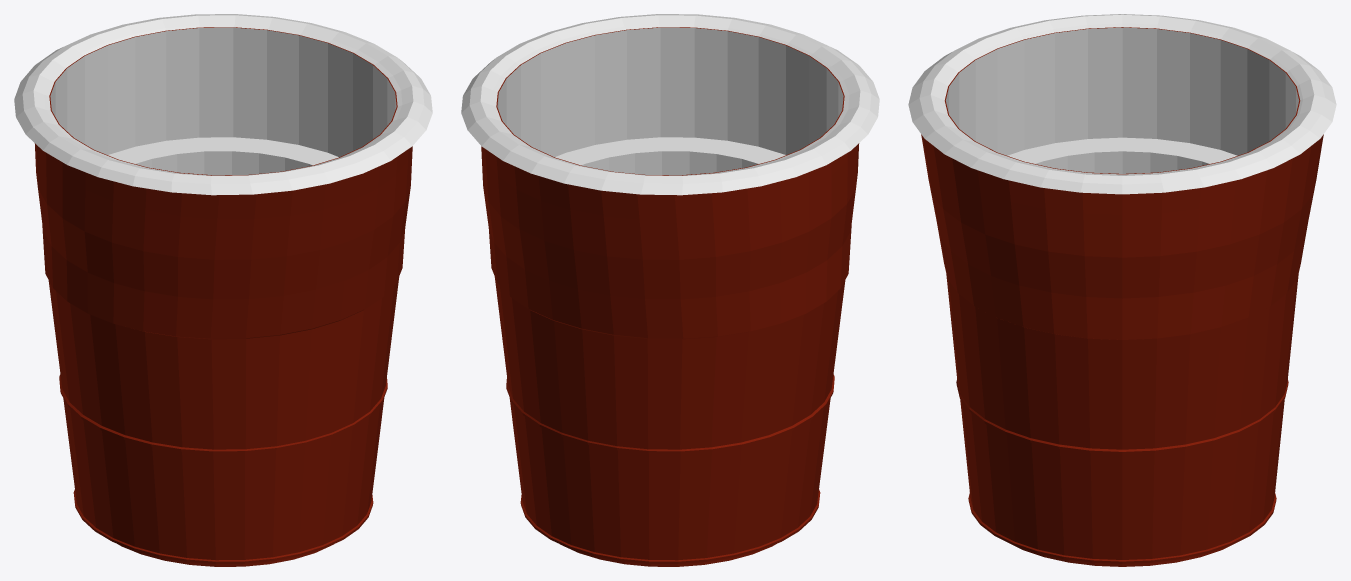
The model's file is NRY_Phone.fbx.
3 renders of one model, left to right at view 1: azimuth 30°, elevation 25°; view 2: azimuth 150°, elevation 25°; view 3: azimuth 270°, elevation 25°, orthographic.
Visible parts, largest first — view 1: Cylinder; view 2: Cylinder; view 3: Cylinder.
Boxes of the visible parts, x1,y1,x2,y2 form: Cylinder: [14, 14, 432, 566]; Cylinder: [461, 14, 879, 566]; Cylinder: [908, 14, 1336, 566].
Size of the model in its own units: 4701 by 5139 by 4811.
